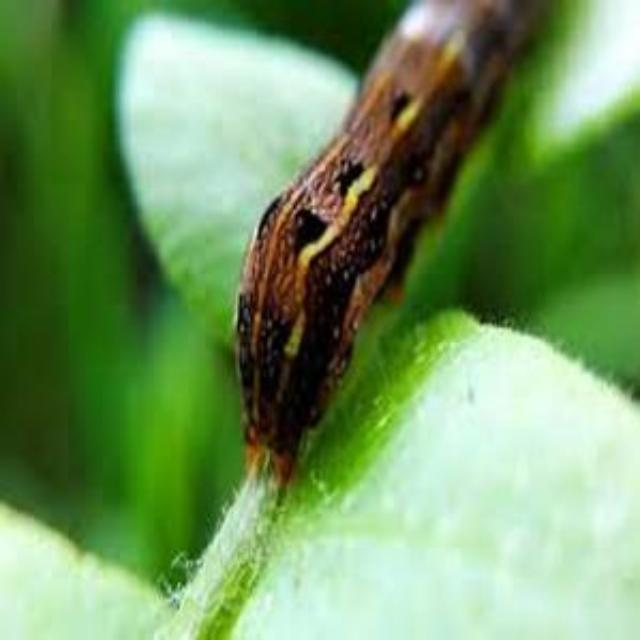Tobacco cutworm: (178, 0, 618, 494)
